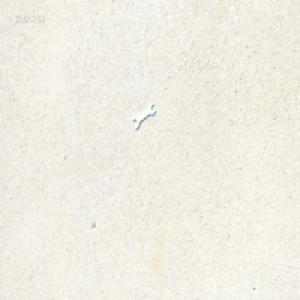Wrench: (132, 102, 154, 130)
